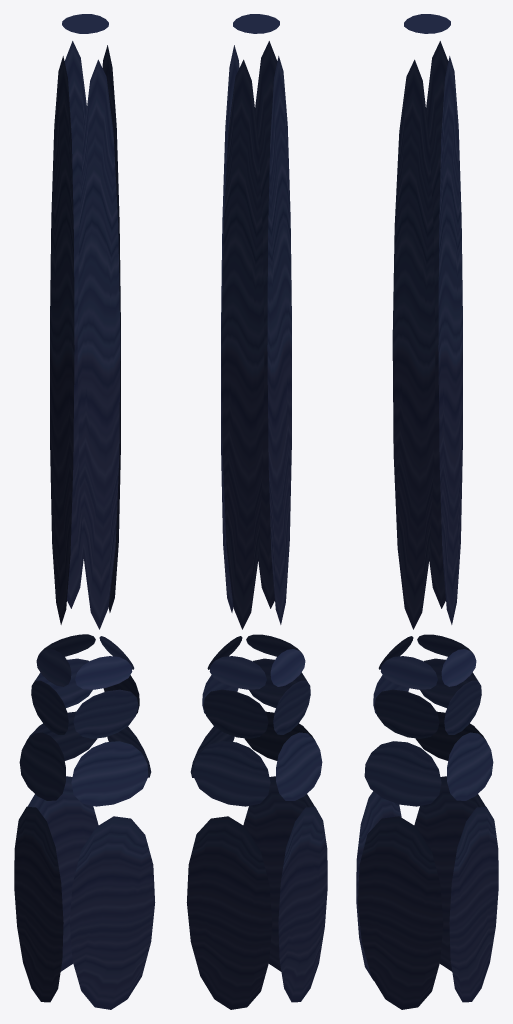
File: road_sign_empty.glb
The picture shows the model from 3 angles, left to right: view 1: azimuth 30°, elevation 25°; view 2: azimuth 150°, elevation 25°; view 3: azimuth 330°, elevation 25°; orthographic projection.
Parts seen in each view (by area): view 1: road_sign_empty; view 2: road_sign_empty; view 3: road_sign_empty.
Part boxes in pixels (x1,y1,x2,y2): road_sign_empty: (14,14,155,1009); road_sign_empty: (186,14,327,1009); road_sign_empty: (356,14,498,1009).
Size of the model in its own units: 0.0498 by 0.4707 by 0.0498.
Materials: 1 (1 with a texture image).
